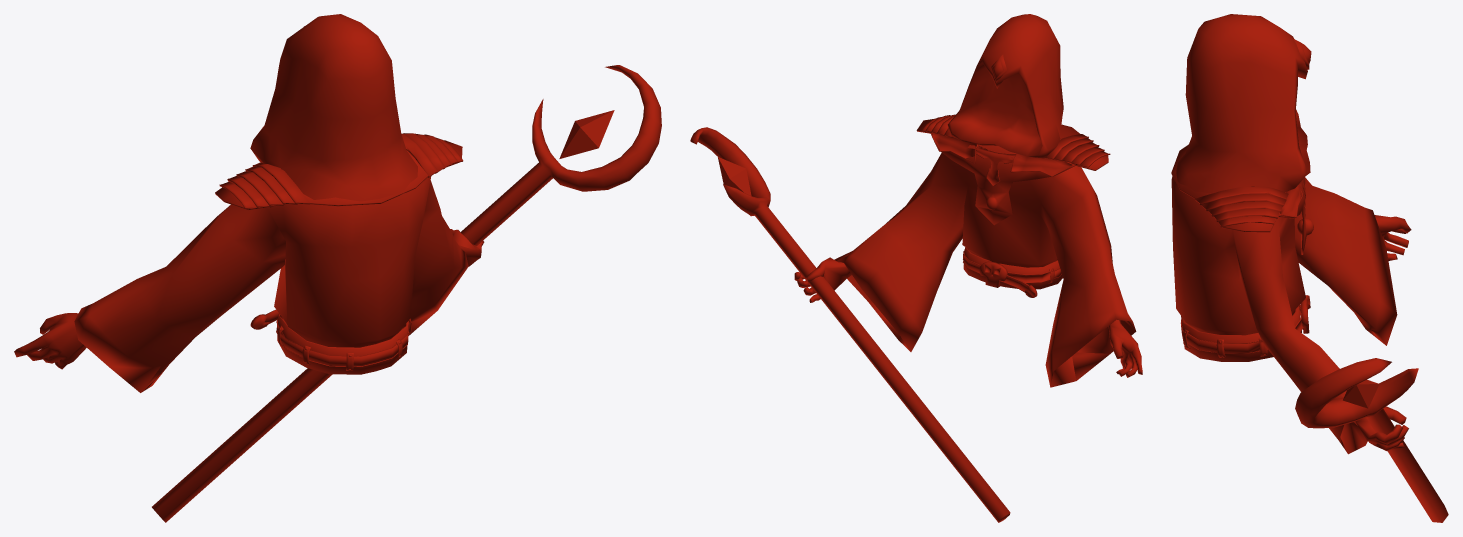
Rendered from top_000055.obj.
The picture shows the model from 3 angles, left to right: view 1: azimuth 30°, elevation 25°; view 2: azimuth 150°, elevation 25°; view 3: azimuth 270°, elevation 25°; orthographic projection. The views are drawn at different scales.
Parts seen in each view (by area): view 1: LowPoly_Warlock.000_Plane.005; view 2: LowPoly_Warlock.000_Plane.005; view 3: LowPoly_Warlock.000_Plane.005.
Boxes of the visible parts, bbox=[...] form: LowPoly_Warlock.000_Plane.005: bbox=[14, 14, 661, 522]; LowPoly_Warlock.000_Plane.005: bbox=[690, 14, 1142, 522]; LowPoly_Warlock.000_Plane.005: bbox=[1171, 14, 1448, 522].
Bounding box in the file's own units: 2.05 × 1.79 × 0.833.
